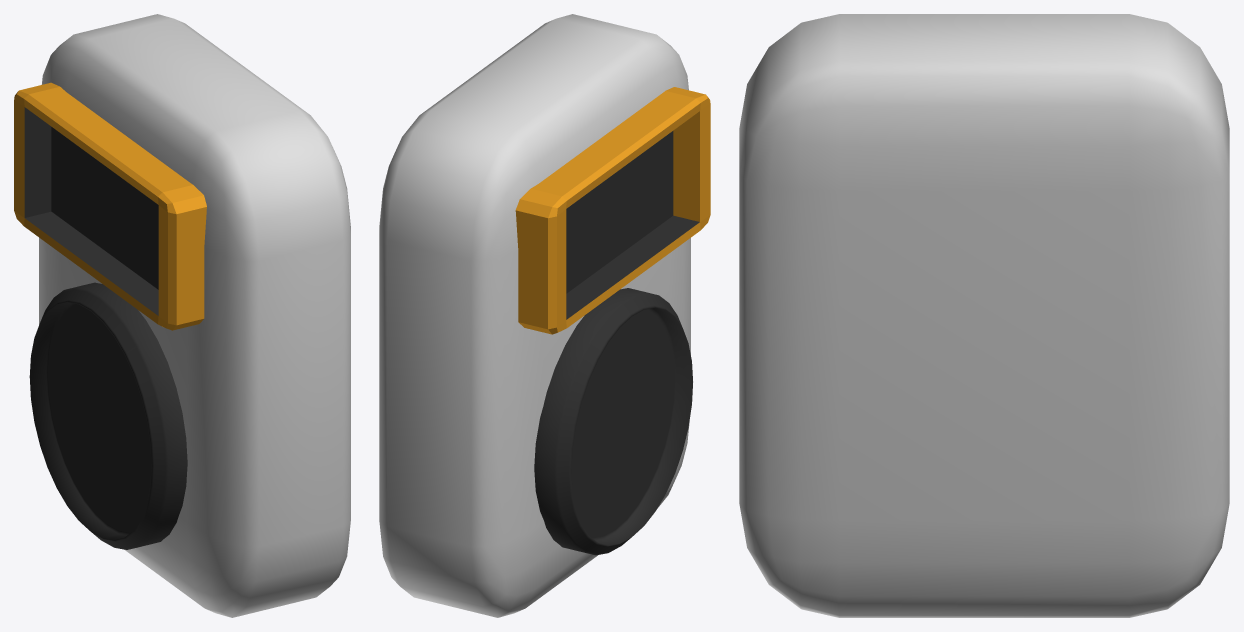
The model's file is backpack.fbx.
3 renders of one model, left to right at view 1: azimuth 30°, elevation 25°; view 2: azimuth 150°, elevation 25°; view 3: azimuth 270°, elevation 25°, orthographic. The views are drawn at different scales.
Parts seen in each view (by area): view 1: backpack; view 2: backpack; view 3: backpack.
Boxes of the visible parts, x1,y1,x2,y2 form: backpack: [14, 14, 350, 617]; backpack: [379, 14, 710, 617]; backpack: [739, 14, 1229, 617].
Bounding box in the file's own units: 154 × 413 × 330.
